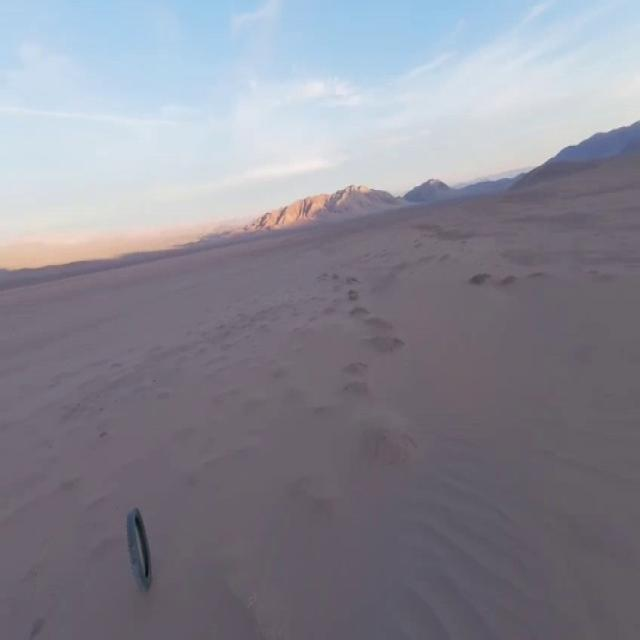Tire: (126, 507, 152, 590)
